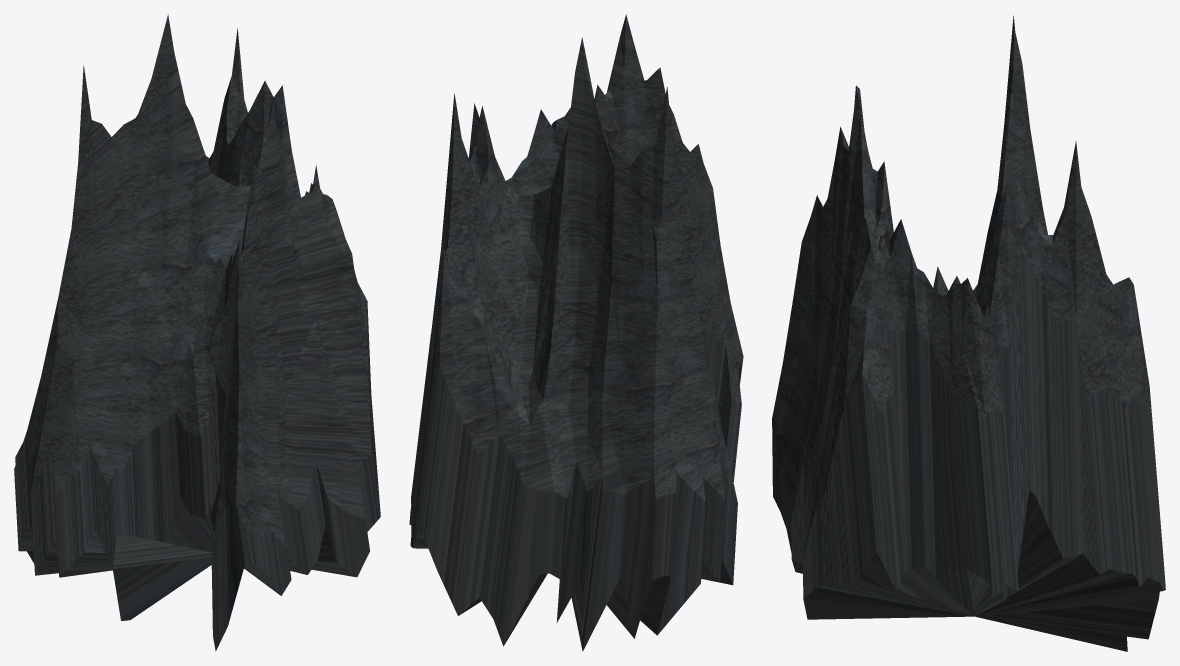
The model's file is HMountains_1.gltf.
The picture shows the model from 3 angles, left to right: view 1: azimuth 30°, elevation 25°; view 2: azimuth 150°, elevation 25°; view 3: azimuth 270°, elevation 25°; orthographic projection. The views are drawn at different scales.
Visible parts, largest first — view 1: HMountains_1; view 2: HMountains_1; view 3: HMountains_1.
Part boxes in pixels (<box>): HMountains_1: <box>14,14,380,651</box>; HMountains_1: <box>409,14,743,651</box>; HMountains_1: <box>772,15,1165,651</box>.
Bounding box in the file's own units: 116 × 211 × 122.
1 material, 1 textured.
